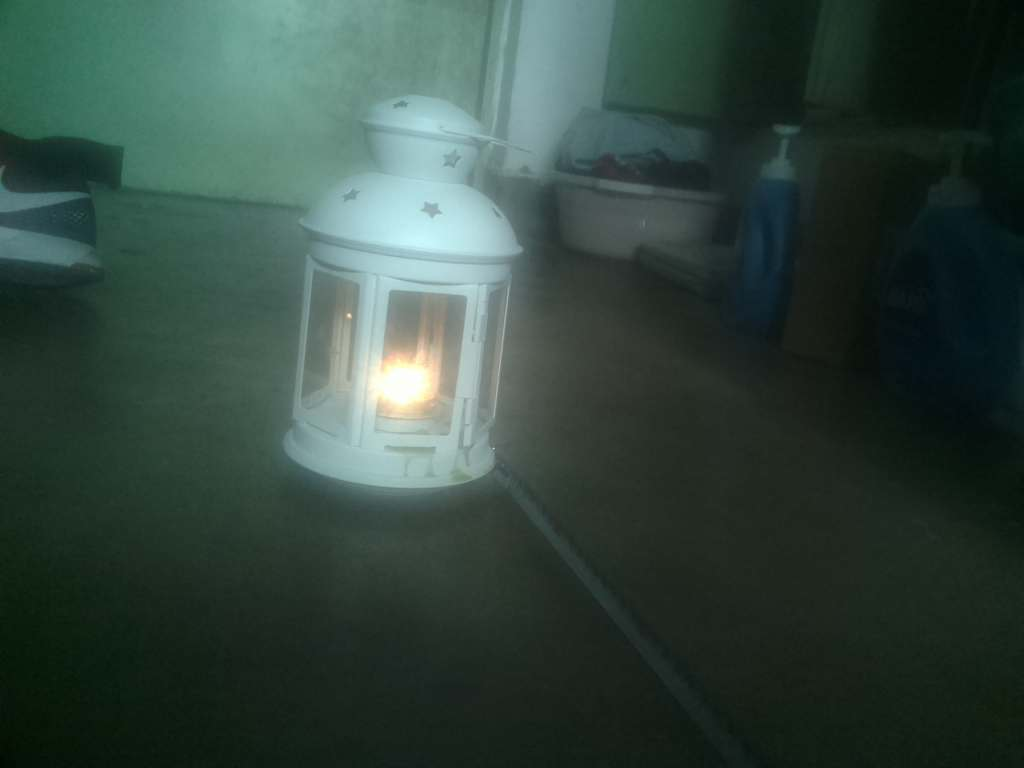fire: (343, 339, 461, 438)
